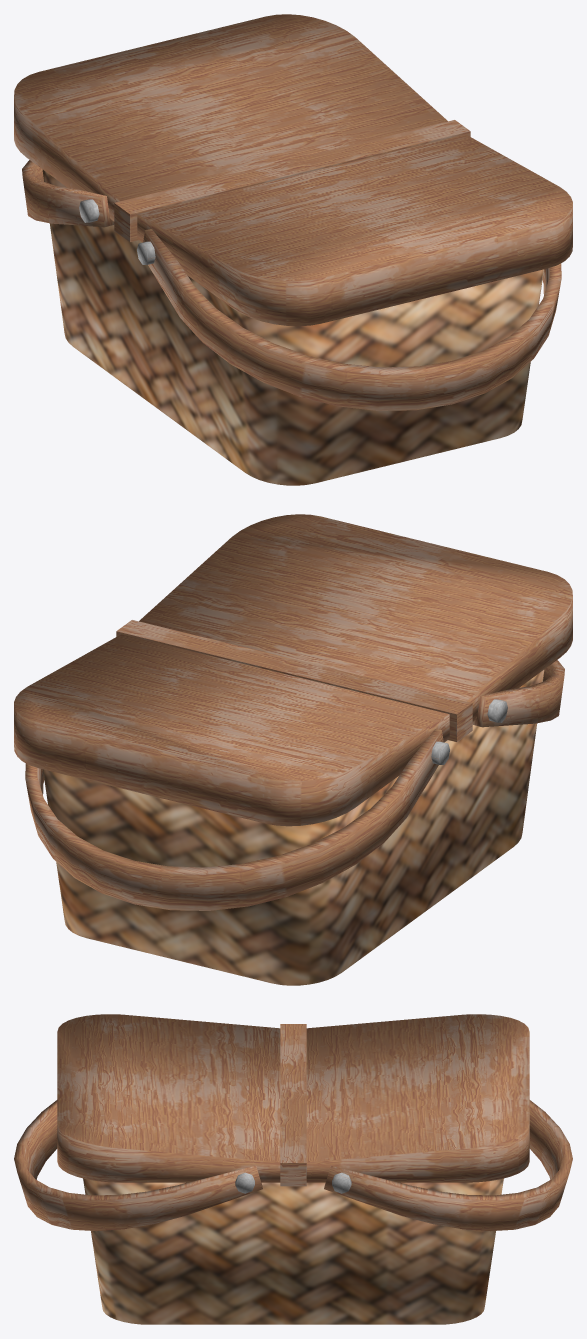
Rendered from picnicBasket.fbx.
3 renders of one model, top to bottom at view 1: azimuth 30°, elevation 25°; view 2: azimuth 150°, elevation 25°; view 3: azimuth 270°, elevation 25°, orthographic. The views are drawn at different scales.
Parts seen in each view (by area): view 1: Cylinder.003; view 2: Cylinder.003; view 3: Cylinder.003.
Part boxes in pixels (x1=…): Cylinder.003: x1=14, y1=14, x2=572, y2=485; Cylinder.003: x1=14, y1=514, x2=572, y2=985; Cylinder.003: x1=14, y1=1014, x2=572, y2=1324.
Size of the model in its own units: 1185 by 731 by 1926.
1 material, 1 textured.
